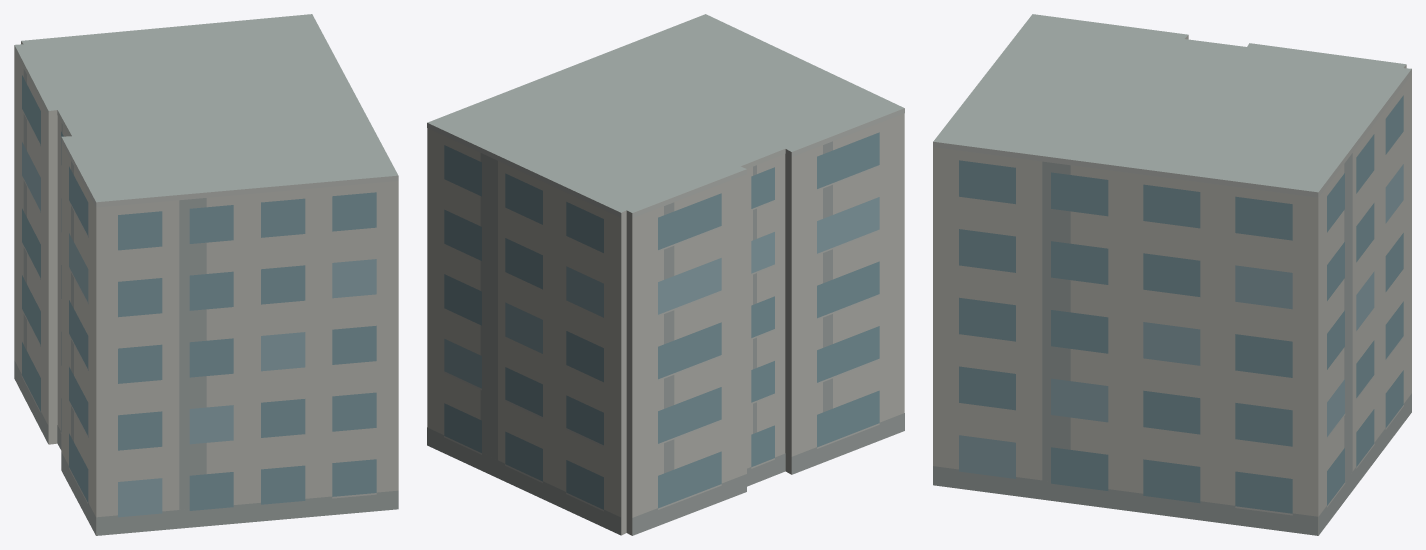
Rendered from survey-upis-32830332.glb.
3 renders of one model, left to right at view 1: azimuth 30°, elevation 25°; view 2: azimuth 150°, elevation 25°; view 3: azimuth 270°, elevation 25°, orthographic. The views are drawn at different scales.
Parts seen in each view (by area): view 1: survey-upis-32830332.tmp; view 2: survey-upis-32830332.tmp; view 3: survey-upis-32830332.tmp.
Boxes of the visible parts, x1=… form: survey-upis-32830332.tmp: x1=14, y1=14, x2=398, y2=535; survey-upis-32830332.tmp: x1=427, y1=14, x2=904, y2=535; survey-upis-32830332.tmp: x1=933, y1=14, x2=1411, y2=535.
Size of the model in its own units: 16.99 by 15.25 by 19.27.
